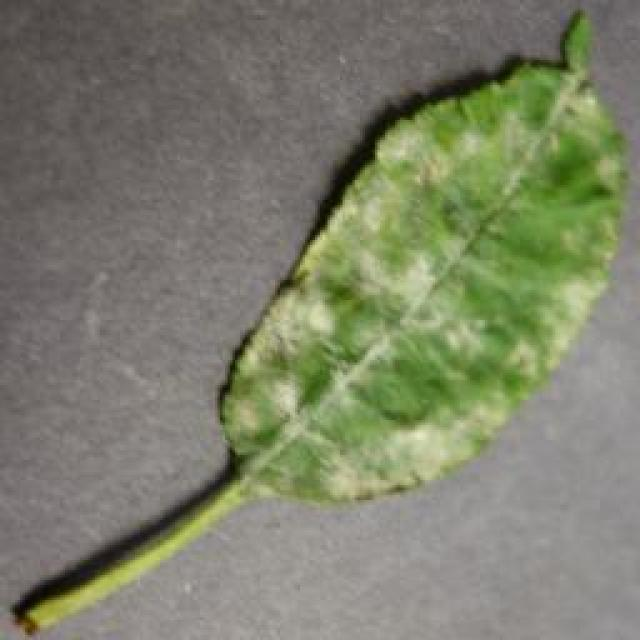Cherry___Powdery_mildew: (5, 2, 637, 640)
